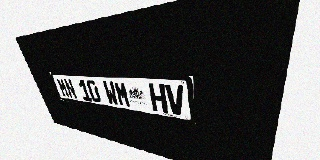0: (86, 80, 102, 103)
1: (77, 79, 92, 101)
H: (148, 83, 168, 113)
M: (113, 81, 131, 108), (56, 78, 70, 98)
N: (63, 78, 78, 99)
V: (165, 84, 186, 116)
W: (102, 81, 119, 106)
